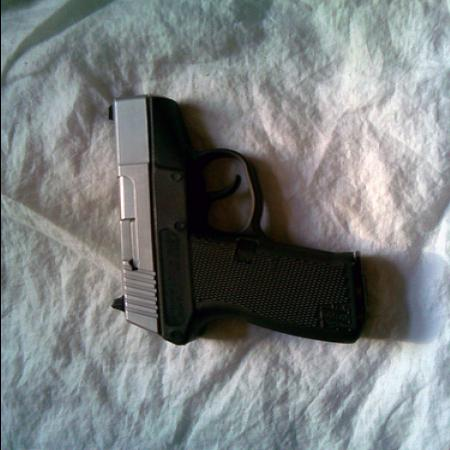Pistol: (110, 95, 362, 346)
